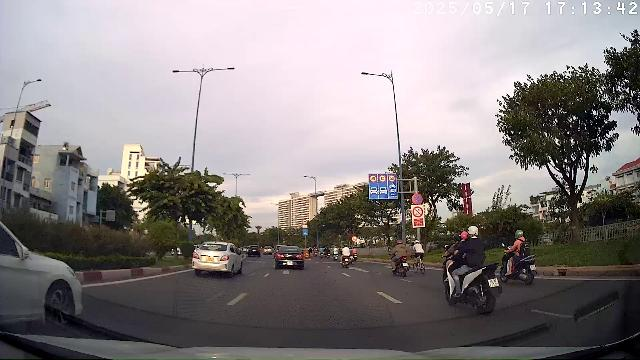127-toc-do-toi-da-50: (388, 175, 396, 182)
127-toc-do-toi-da-60: (378, 175, 387, 183), (369, 175, 377, 183)
130-cam-dung-va-do-xe: (412, 193, 423, 205)
